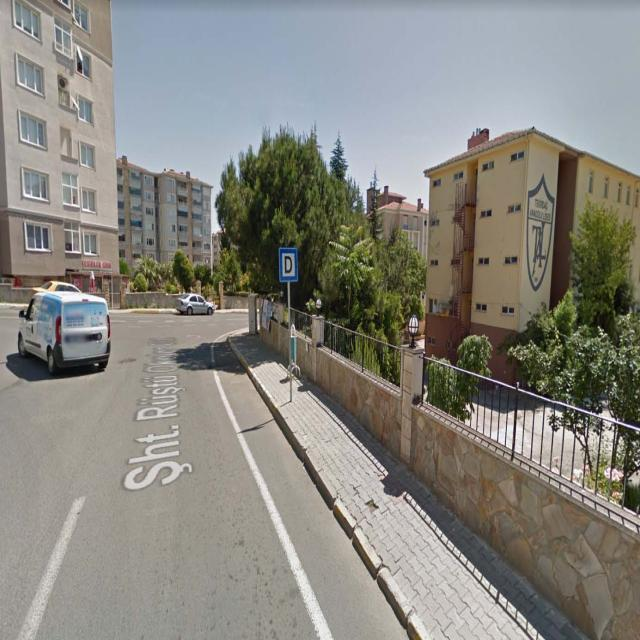durak: (279, 249, 298, 282)
